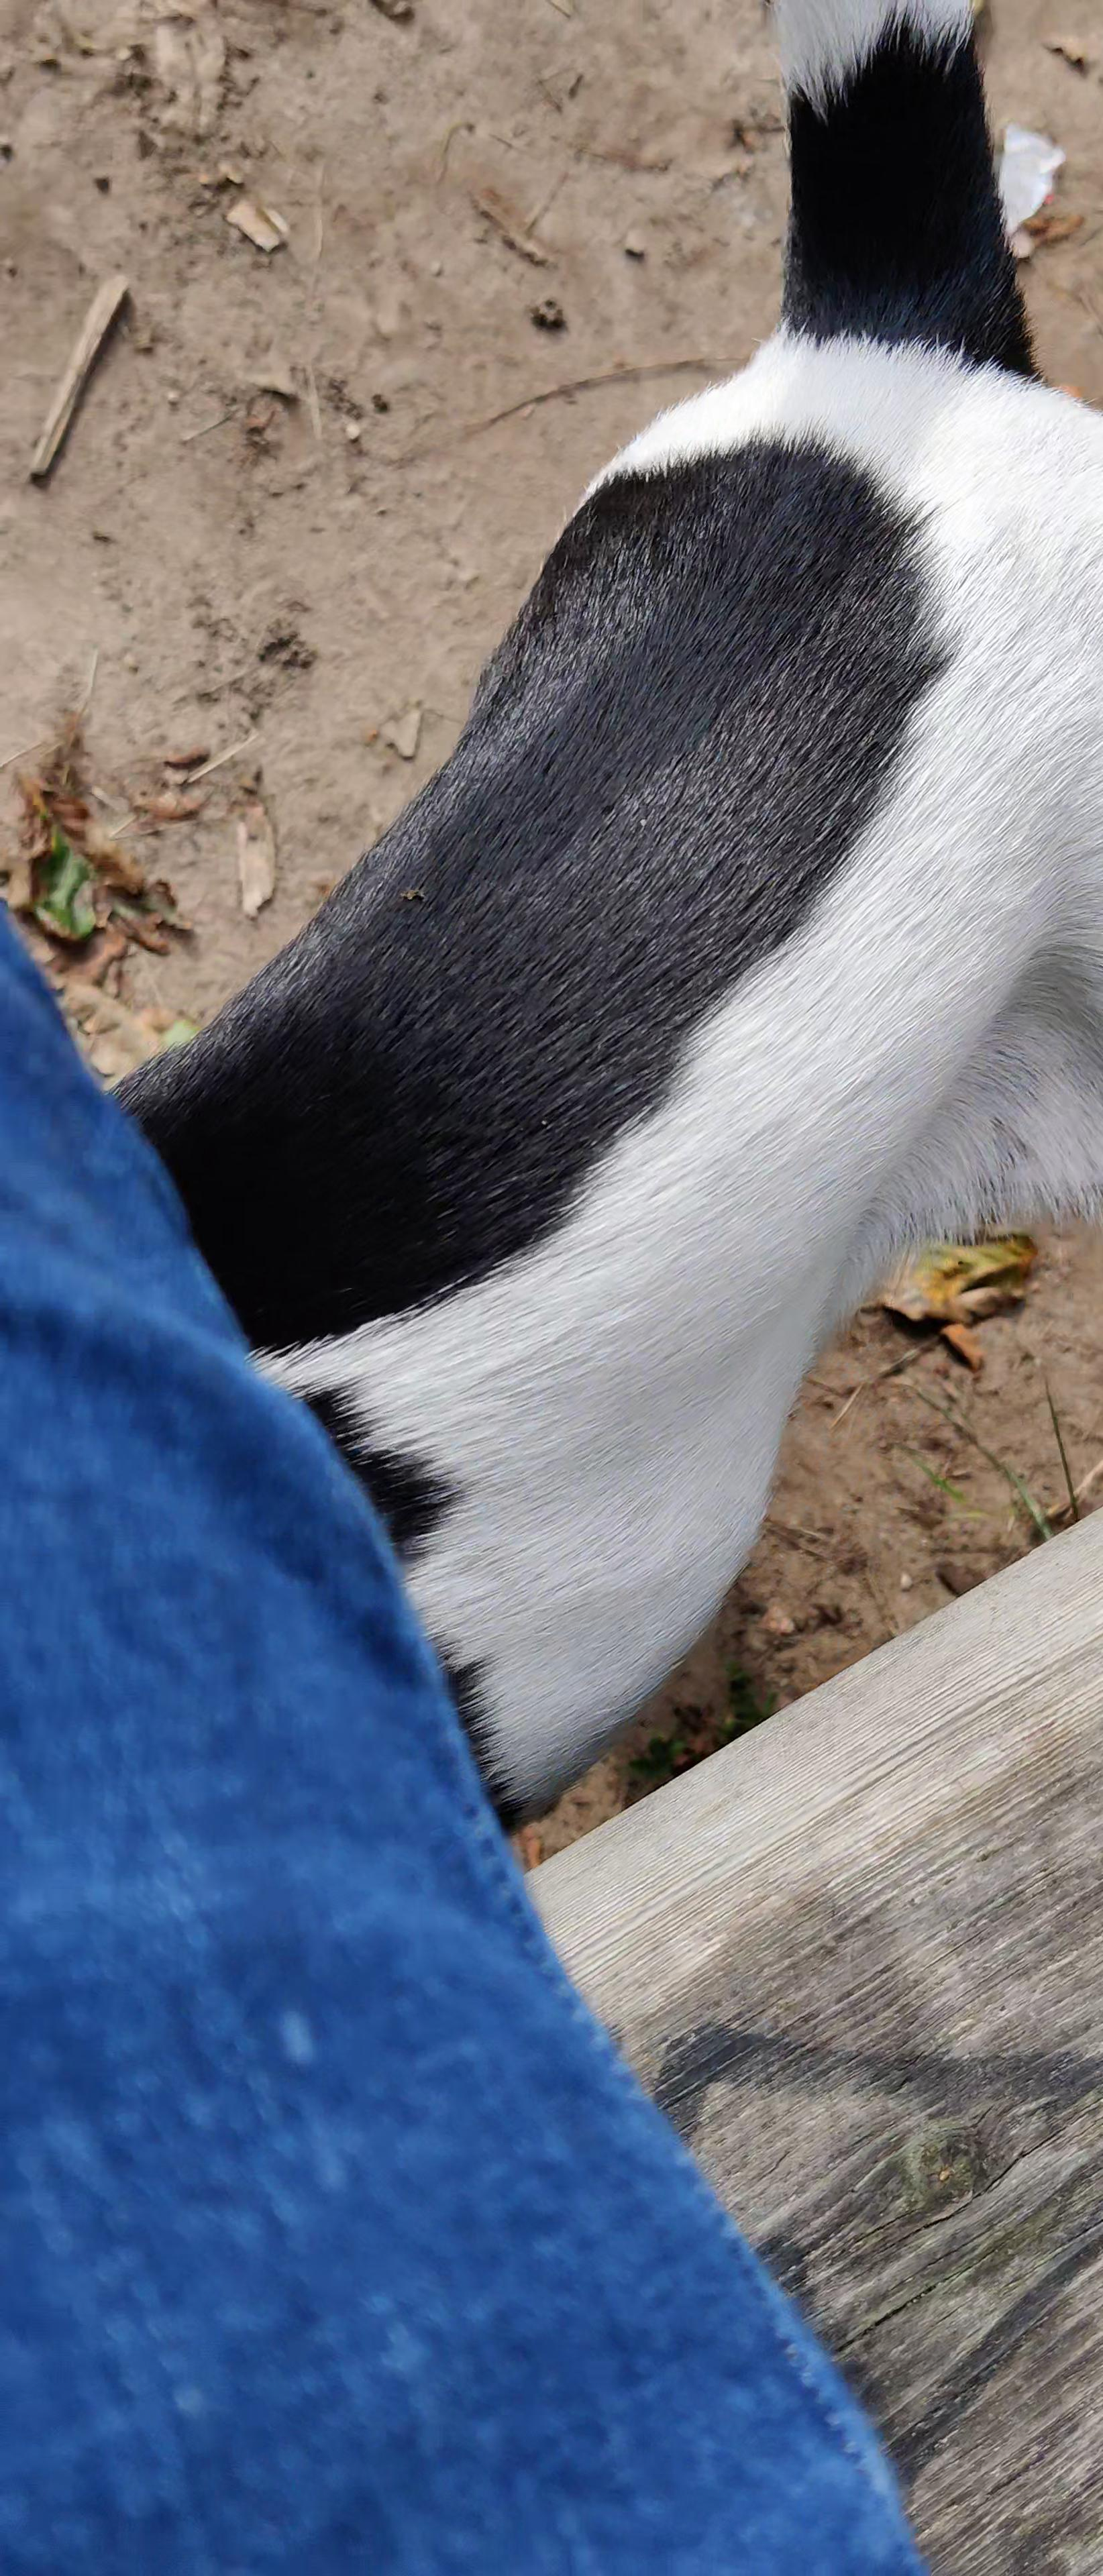Dog: (95, 0, 1103, 1840)
